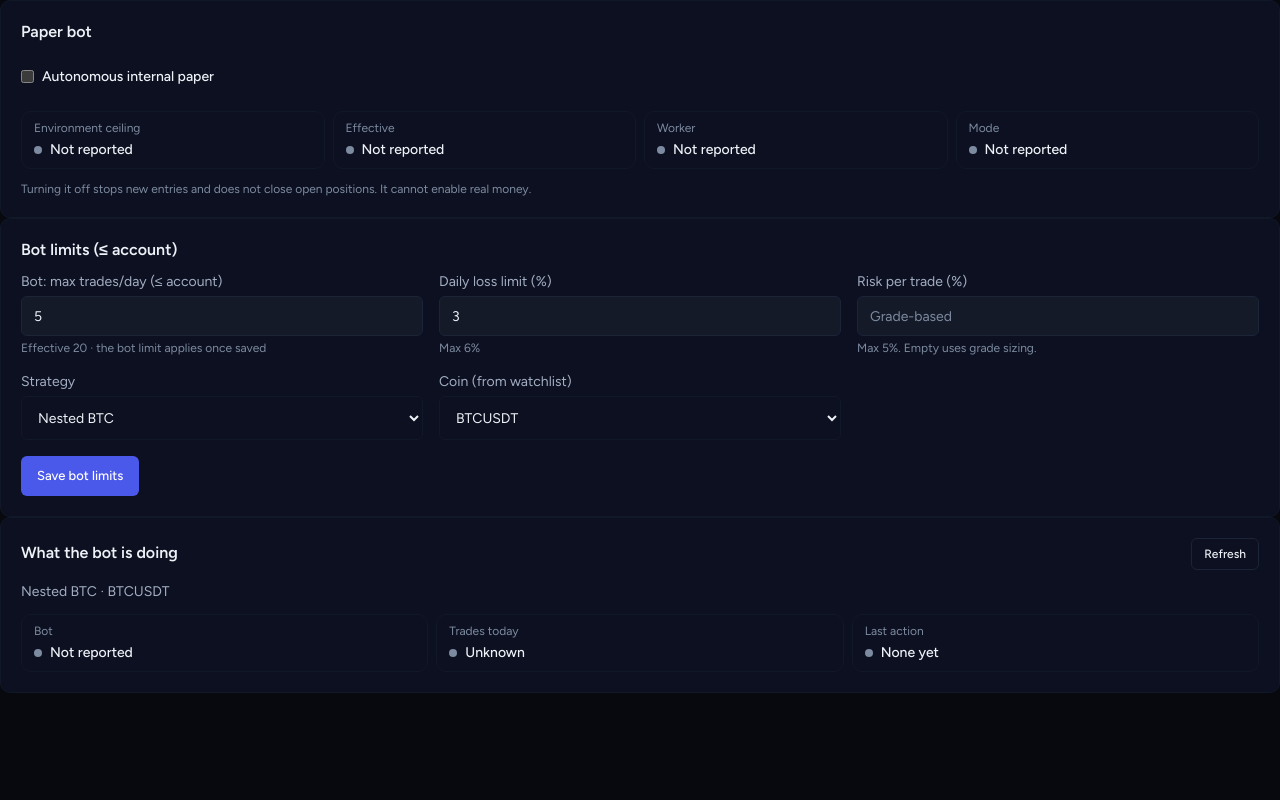
Test: Autonomous trading settings form › shows a ceiling validation message from the API
This screenshot has width=1280, height=800.
Replace the text in the field with test id "autonomous-daily-loss-percent" with "7". click: coordinates (640, 316)
box: [439,296,841,336]
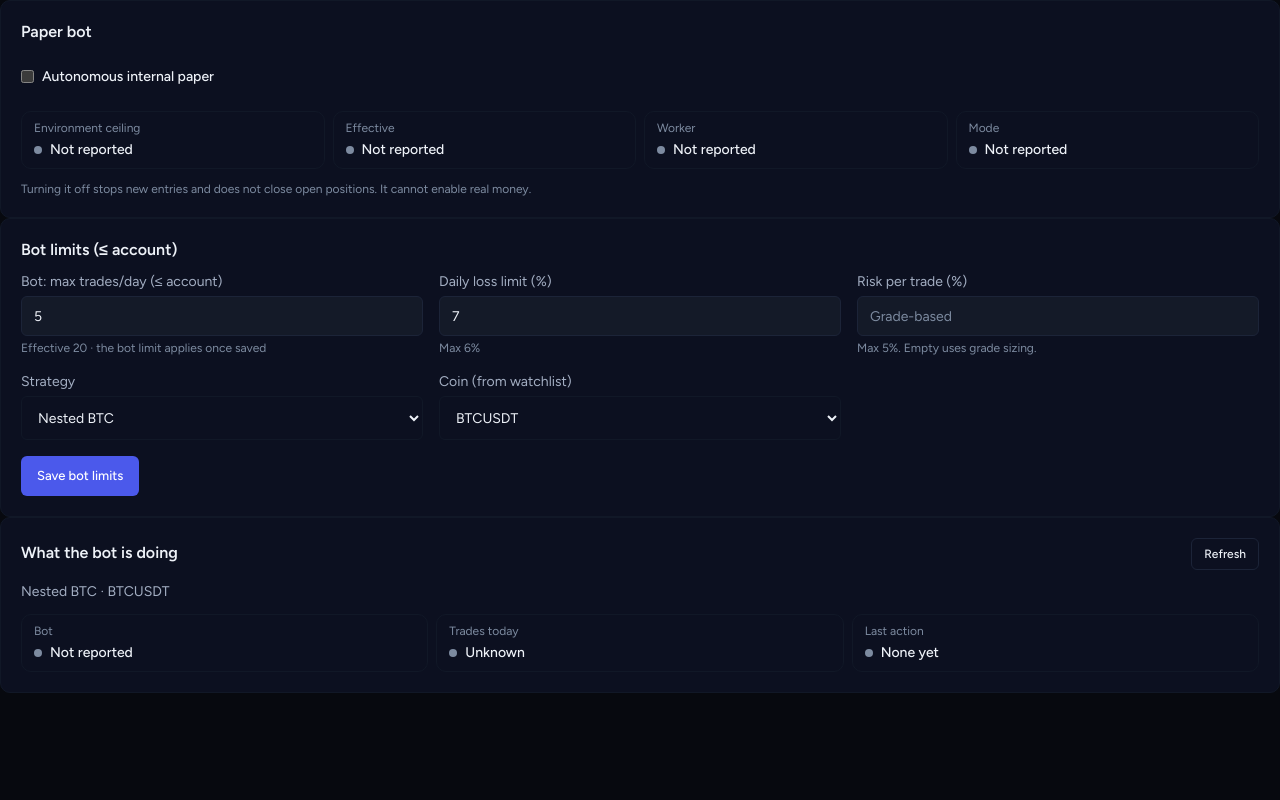
Click the button "Save bot limits". click: coordinates (80, 476)
box: [21,456,139,496]
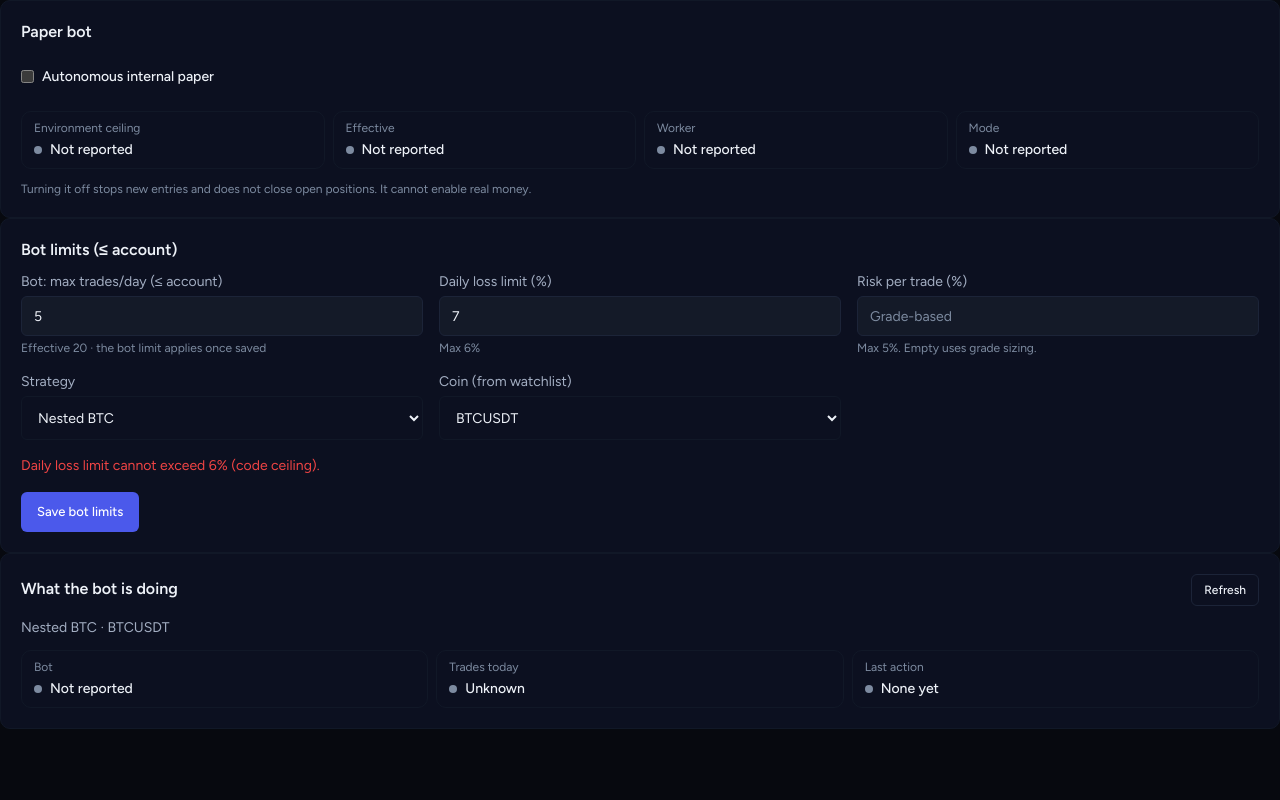
Expected: the message shows "cannot exceed 6%", [21,457,320,474]
